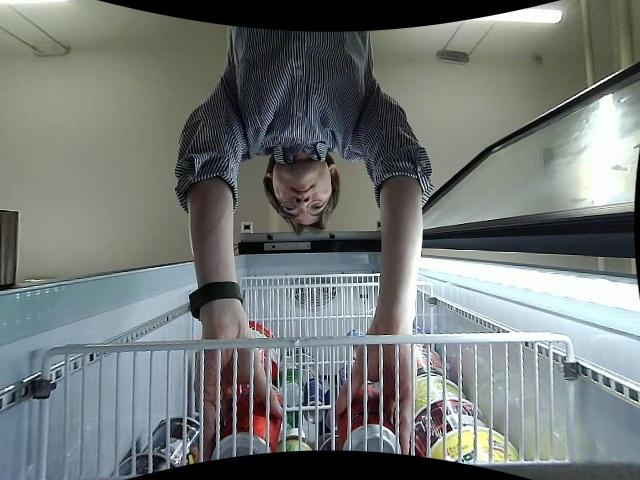00_hand: (193, 322, 284, 454), (331, 336, 415, 453)
11_cocaColaZero: (213, 396, 280, 464), (336, 401, 401, 456)
